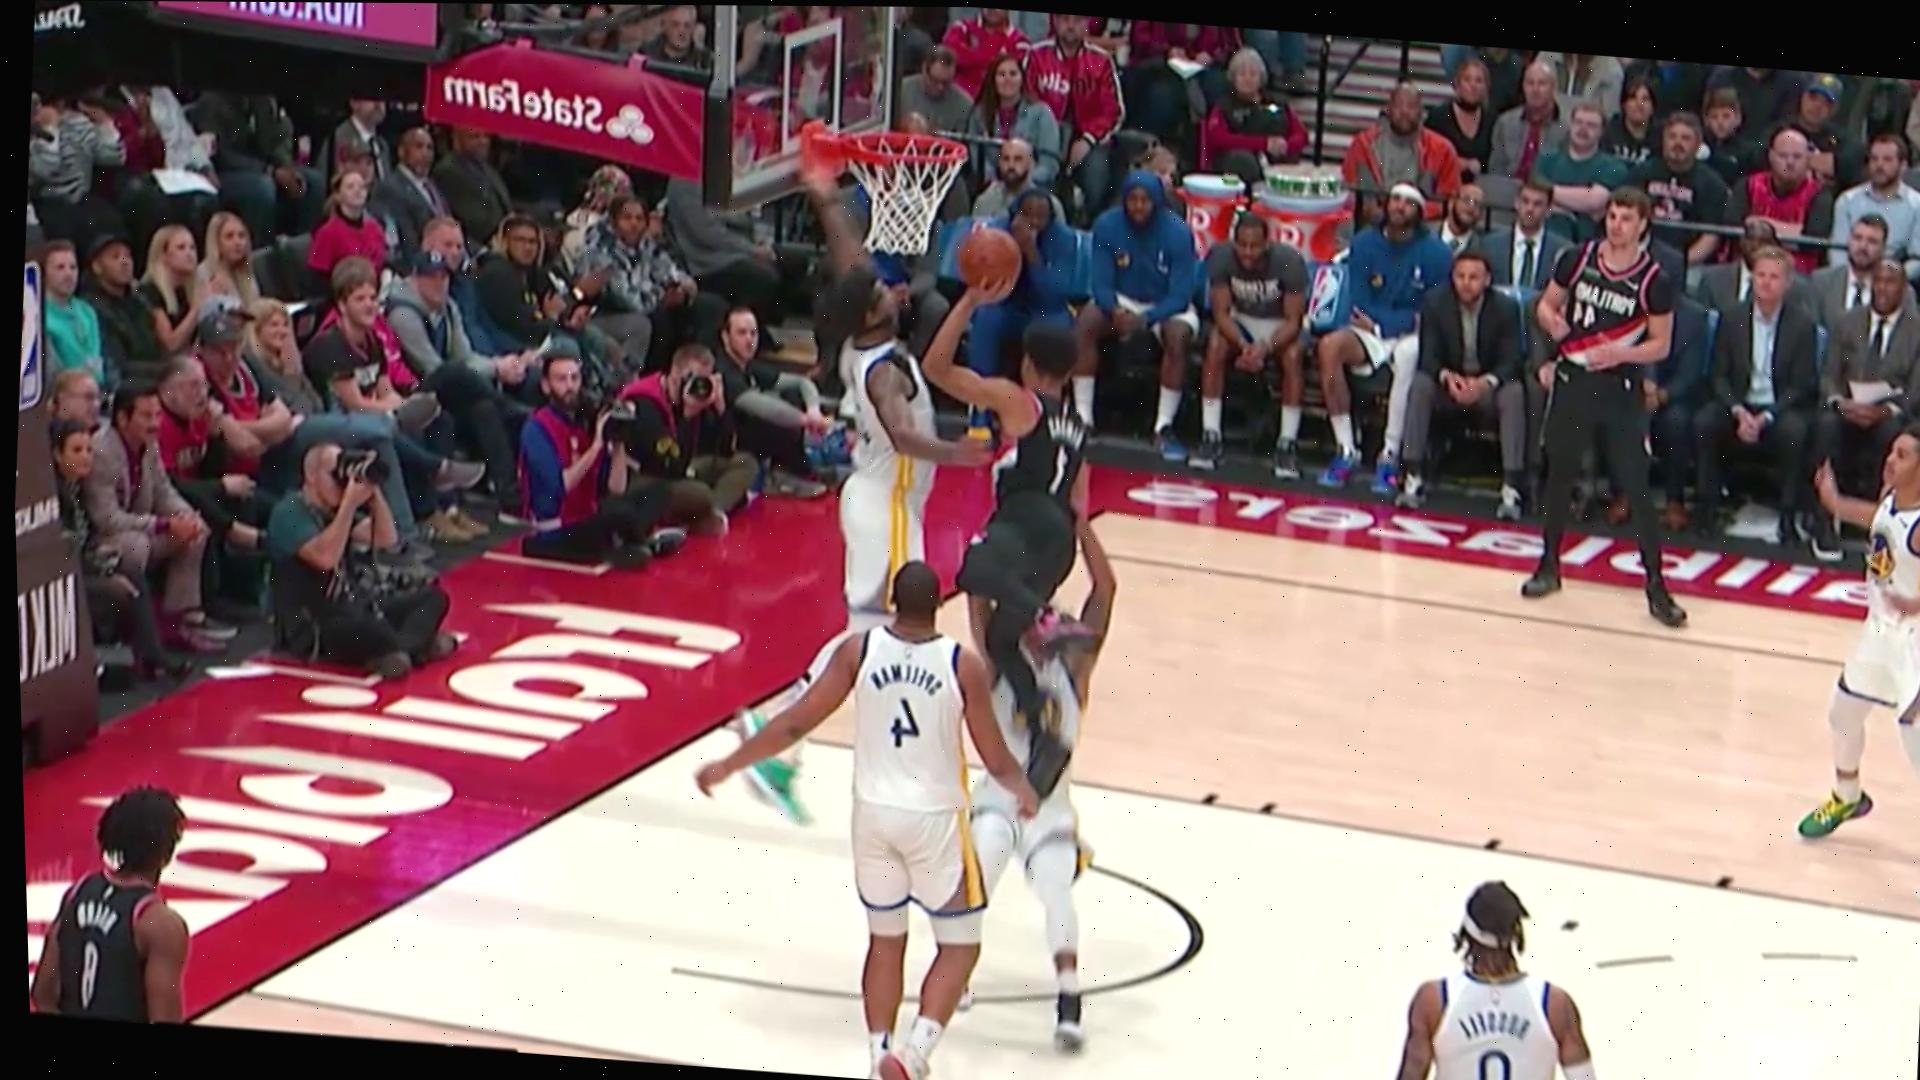foul: (947, 336, 1129, 980)
